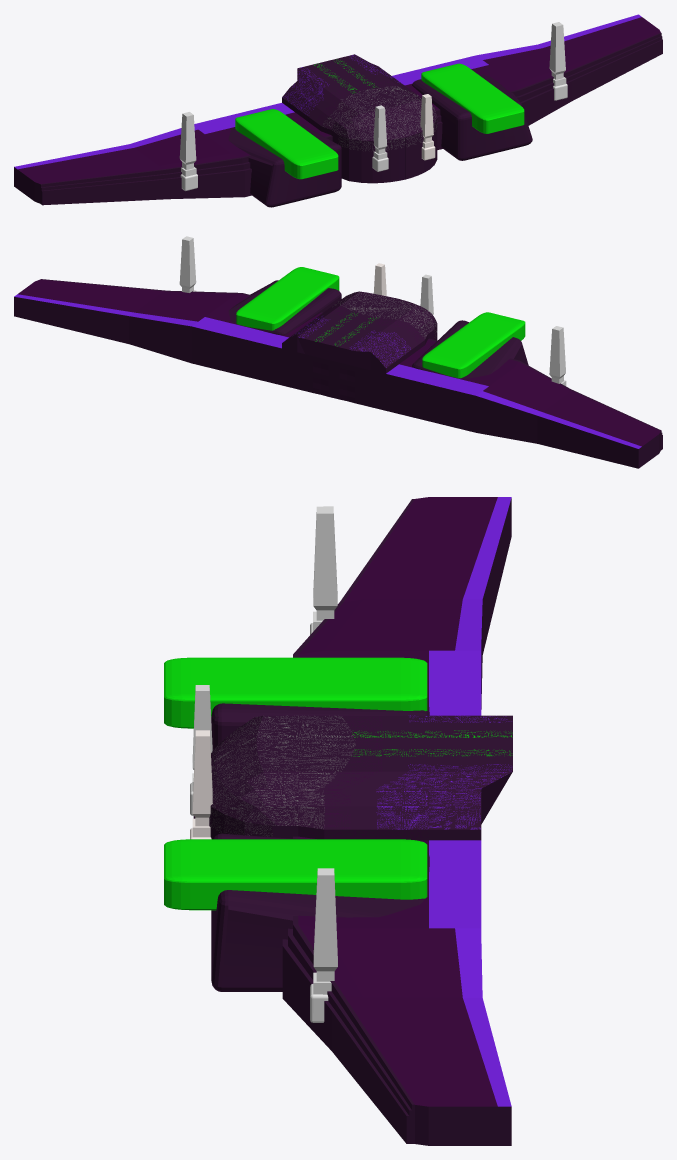
The model's file is BossShip.fbx.
3 views of the same model, one above another, from view 1: azimuth 30°, elevation 25°; view 2: azimuth 150°, elevation 25°; view 3: azimuth 270°, elevation 25° (orthographic). The views are drawn at different scales.
Parts seen in each view (by area): view 1: Cube, Cube.005, Cube.003, Cube.002, Cube.004, Cube.001; view 2: Cube, Cube.005, Cube.003, Cube.002, Cube.004, Cube.001; view 3: Cube, Cube.005, Cube.002, Cube.003, Cube.001, Cube.004.
Boxes of the visible parts, bbox=[...] form: Cube: bbox=[14, 14, 662, 207]; Cube.005: bbox=[235, 63, 524, 179]; Cube.003: bbox=[179, 112, 197, 190]; Cube.002: bbox=[549, 22, 567, 100]; Cube.004: bbox=[372, 105, 388, 171]; Cube.001: bbox=[420, 94, 435, 160]; Cube: bbox=[14, 279, 662, 468]; Cube.005: bbox=[236, 267, 525, 378]; Cube.003: bbox=[549, 326, 566, 386]; Cube.002: bbox=[179, 236, 196, 292]; Cube.004: bbox=[420, 274, 433, 314]; Cube.001: bbox=[373, 263, 386, 296]; Cube: bbox=[193, 497, 512, 1145]; Cube.005: bbox=[164, 657, 427, 910]; Cube.002: bbox=[310, 868, 337, 1022]; Cube.003: bbox=[310, 506, 337, 634]; Cube.001: bbox=[190, 730, 212, 839]; Cube.004: bbox=[190, 685, 212, 815].
Bounding box in the file's own units: 13999 × 1887 × 3385.
